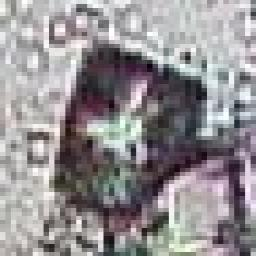crystals: (46, 36, 220, 222)
